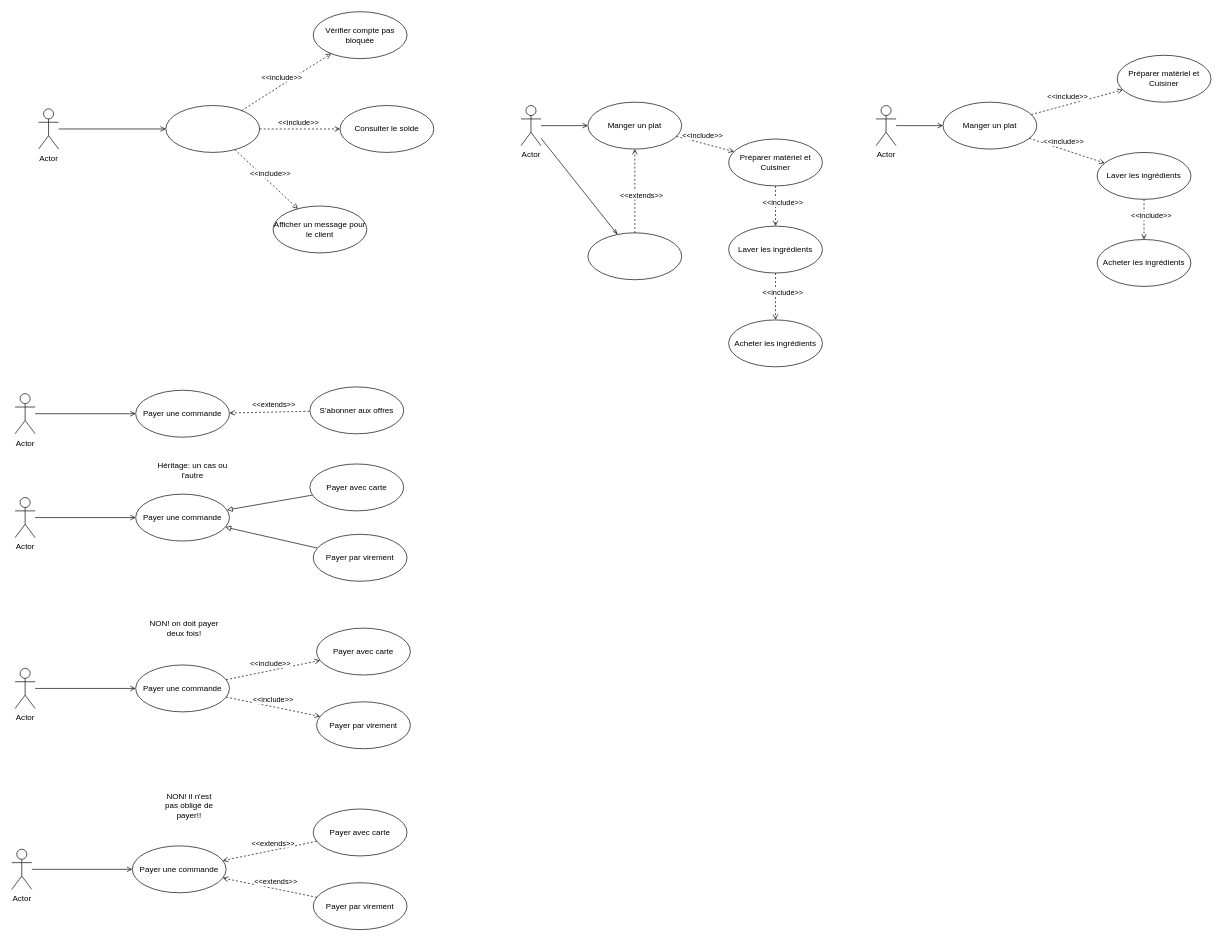
Some shapes in this 1223 by 941 pixel diagram are drawn without their labels. Here are the shapes that lost their labels. From the top down, the centre of each, then its label:
At (x=212, y=128): "Faire un virement".
At (x=634, y=256): "Inviter des amis".
